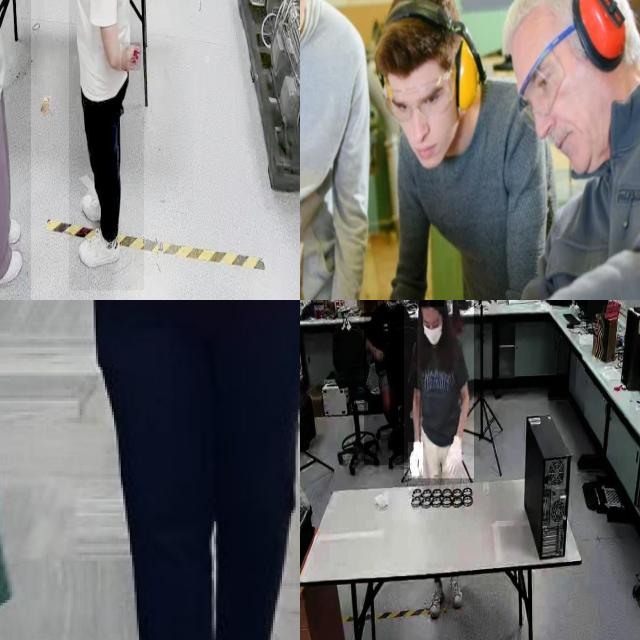Ear-protection: (506, 0, 640, 182), (370, 0, 490, 173)
face_mask: (423, 310, 447, 348)
glasses: (508, 14, 586, 144), (384, 78, 458, 122)
hand_glove: (438, 435, 466, 475), (408, 442, 424, 476)
hand_noglove: (121, 42, 141, 72), (374, 347, 385, 365)
head_nohelmet: (418, 300, 444, 307)
person: (69, 0, 144, 291), (403, 300, 474, 479), (364, 300, 417, 466)
shoes: (75, 224, 120, 270), (0, 248, 25, 290), (428, 578, 447, 616)
